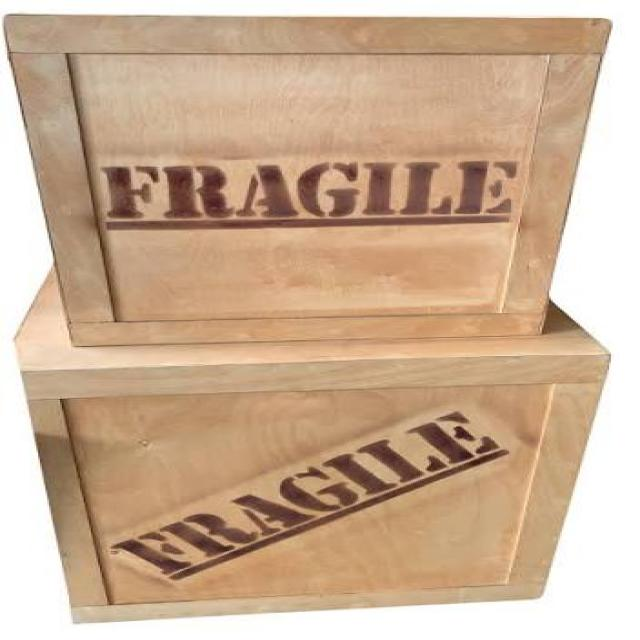fragile_label: (97, 401, 516, 591), (87, 140, 526, 250)
